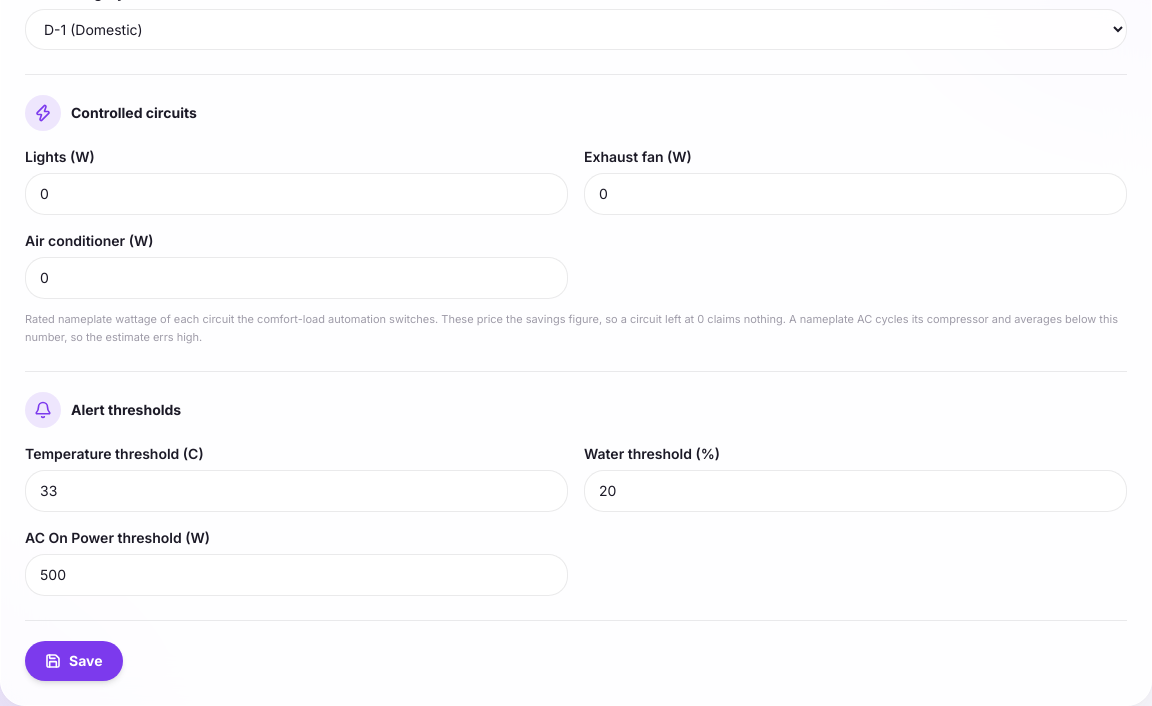
Test: AdminPropertySettings (route-scoped, v2 slice 07) › a property with zero rooms is fully configurable (route decides, not room discovery)
(page scrolled)
Expected: the number field labelled "Temperature threshold (C)" holds "33", [25,470,568,512]
Expected: the number field labelled "Water threshold (%)" holds "20", [584,470,1127,512]
Click the button "Save".
click(74, 661)  # box [25,641,122,681]
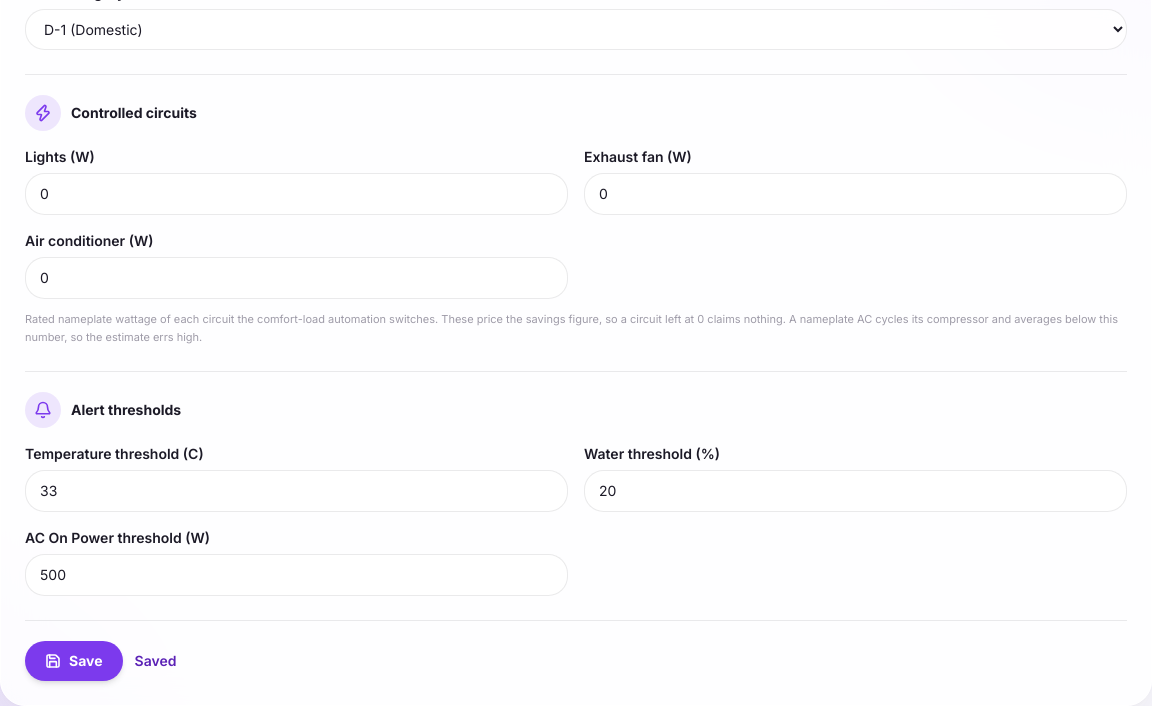
Expected: the text "Saved" is shown, [134,651,176,671]
